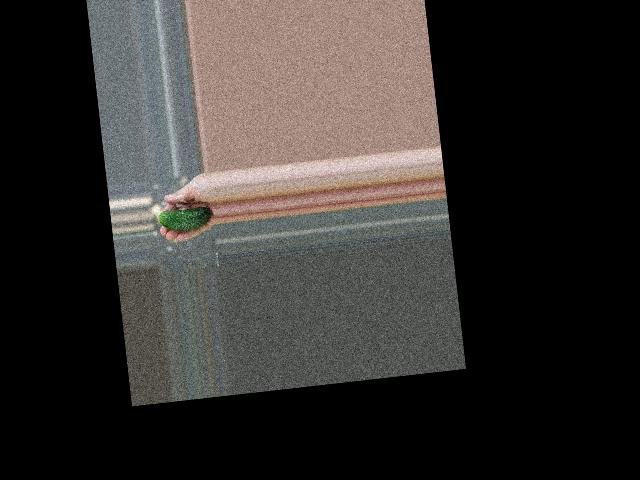cucumber: (158, 206, 212, 234)
